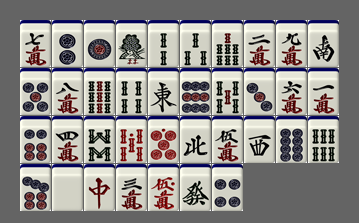0m: (148, 164, 179, 211)
0p: (148, 116, 179, 163)
0s: (116, 116, 147, 163)
1m: (308, 68, 339, 115)
1p: (84, 20, 115, 67)
1s: (116, 20, 147, 67)
1z: (148, 68, 179, 115)
2m: (244, 20, 275, 67)
2p: (52, 20, 83, 67)
2s: (148, 20, 179, 67)
2z: (308, 20, 339, 67)
3m: (116, 164, 147, 211)
3p: (244, 68, 275, 115)
3s: (180, 20, 211, 67)
3z: (244, 116, 275, 163)
4m: (52, 116, 83, 163)
4p: (212, 164, 243, 211)
4s: (116, 68, 147, 115)
4z: (180, 116, 211, 163)
5m: (212, 116, 243, 163)
5p: (20, 68, 51, 115)
5s: (212, 68, 243, 115)
5z: (52, 164, 83, 211)
6m: (276, 68, 307, 115)
6p: (20, 116, 51, 163)
6s: (308, 116, 339, 163)
6z: (180, 164, 211, 211)
7m: (20, 20, 51, 67)
7p: (20, 164, 51, 211)
7s: (212, 20, 243, 67)
7z: (84, 164, 115, 211)
8m: (52, 68, 83, 115)
8p: (276, 116, 307, 163)
8s: (84, 116, 115, 163)
9m: (276, 20, 307, 67)
9p: (180, 68, 211, 115)
9s: (84, 68, 115, 115)
